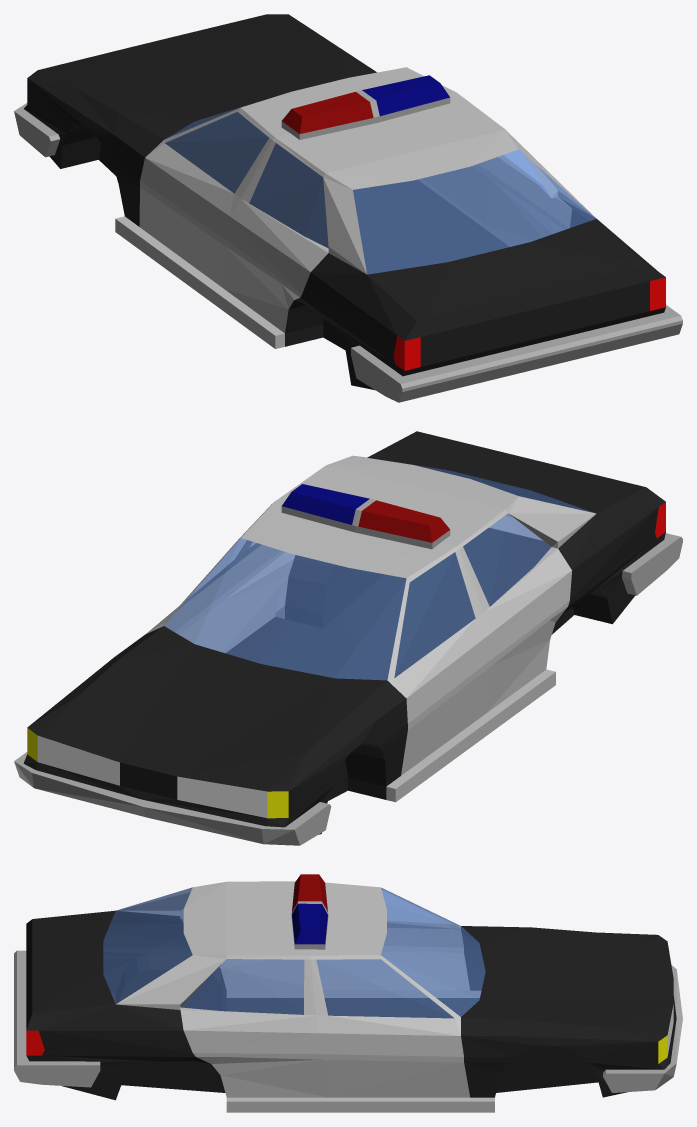
The model's file is Interceptor.fbx.
3 views of the same model, one above another, from view 1: azimuth 30°, elevation 25°; view 2: azimuth 150°, elevation 25°; view 3: azimuth 270°, elevation 25° (orthographic). The views are drawn at different scales.
Parts seen in each view (by area): view 1: _(Loose Entity); view 2: _(Loose Entity); view 3: _(Loose Entity).
Part boxes in pixels (x1=…): _(Loose Entity): x1=14, y1=14, x2=682, y2=402; _(Loose Entity): x1=14, y1=431, x2=682, y2=845; _(Loose Entity): x1=14, y1=874, x2=682, y2=1112.
Size of the model in its own units: 224 by 139 by 551.
